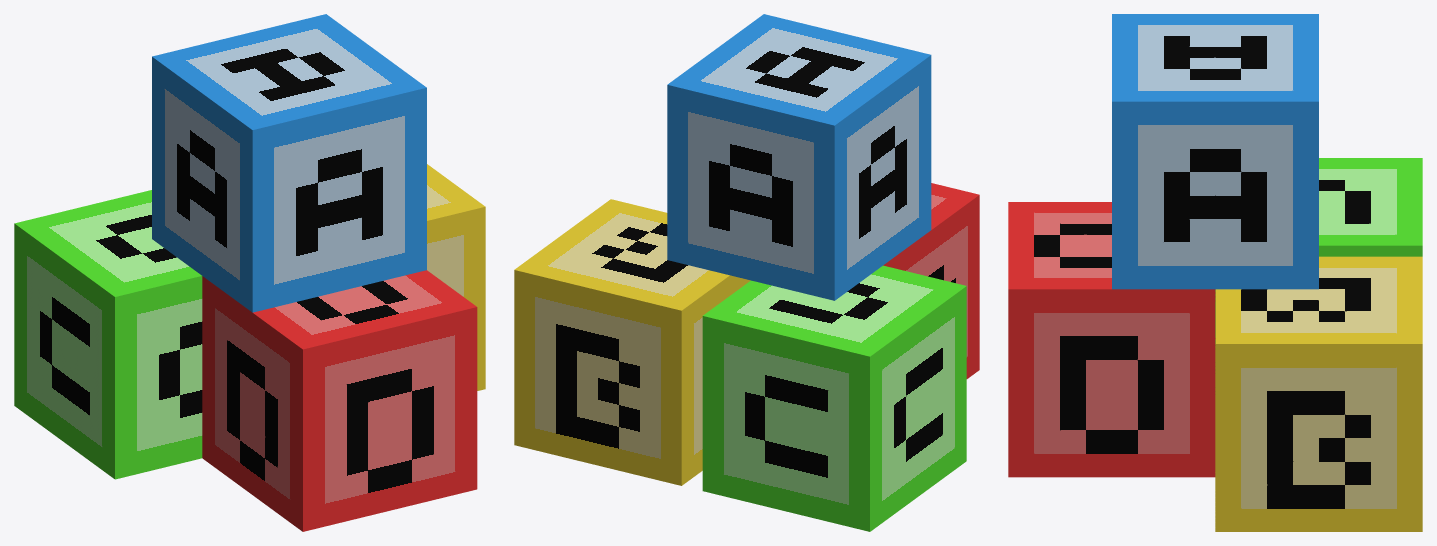
The model's file is Blocos coletaveis.obj.
The picture shows the model from 3 angles, left to right: view 1: azimuth 30°, elevation 25°; view 2: azimuth 150°, elevation 25°; view 3: azimuth 270°, elevation 25°; orthographic projection. The views are drawn at different scales.
Visible parts, largest first — view 1: mesh; view 2: mesh; view 3: mesh.
Boxes of the visible parts, bbox=[...] form: mesh: bbox=[14, 14, 485, 531]; mesh: bbox=[514, 14, 979, 531]; mesh: bbox=[1008, 14, 1422, 531].
Bounding box in the file's own units: 0.2656 × 0.25 × 0.25.
1 material, 1 textured.
